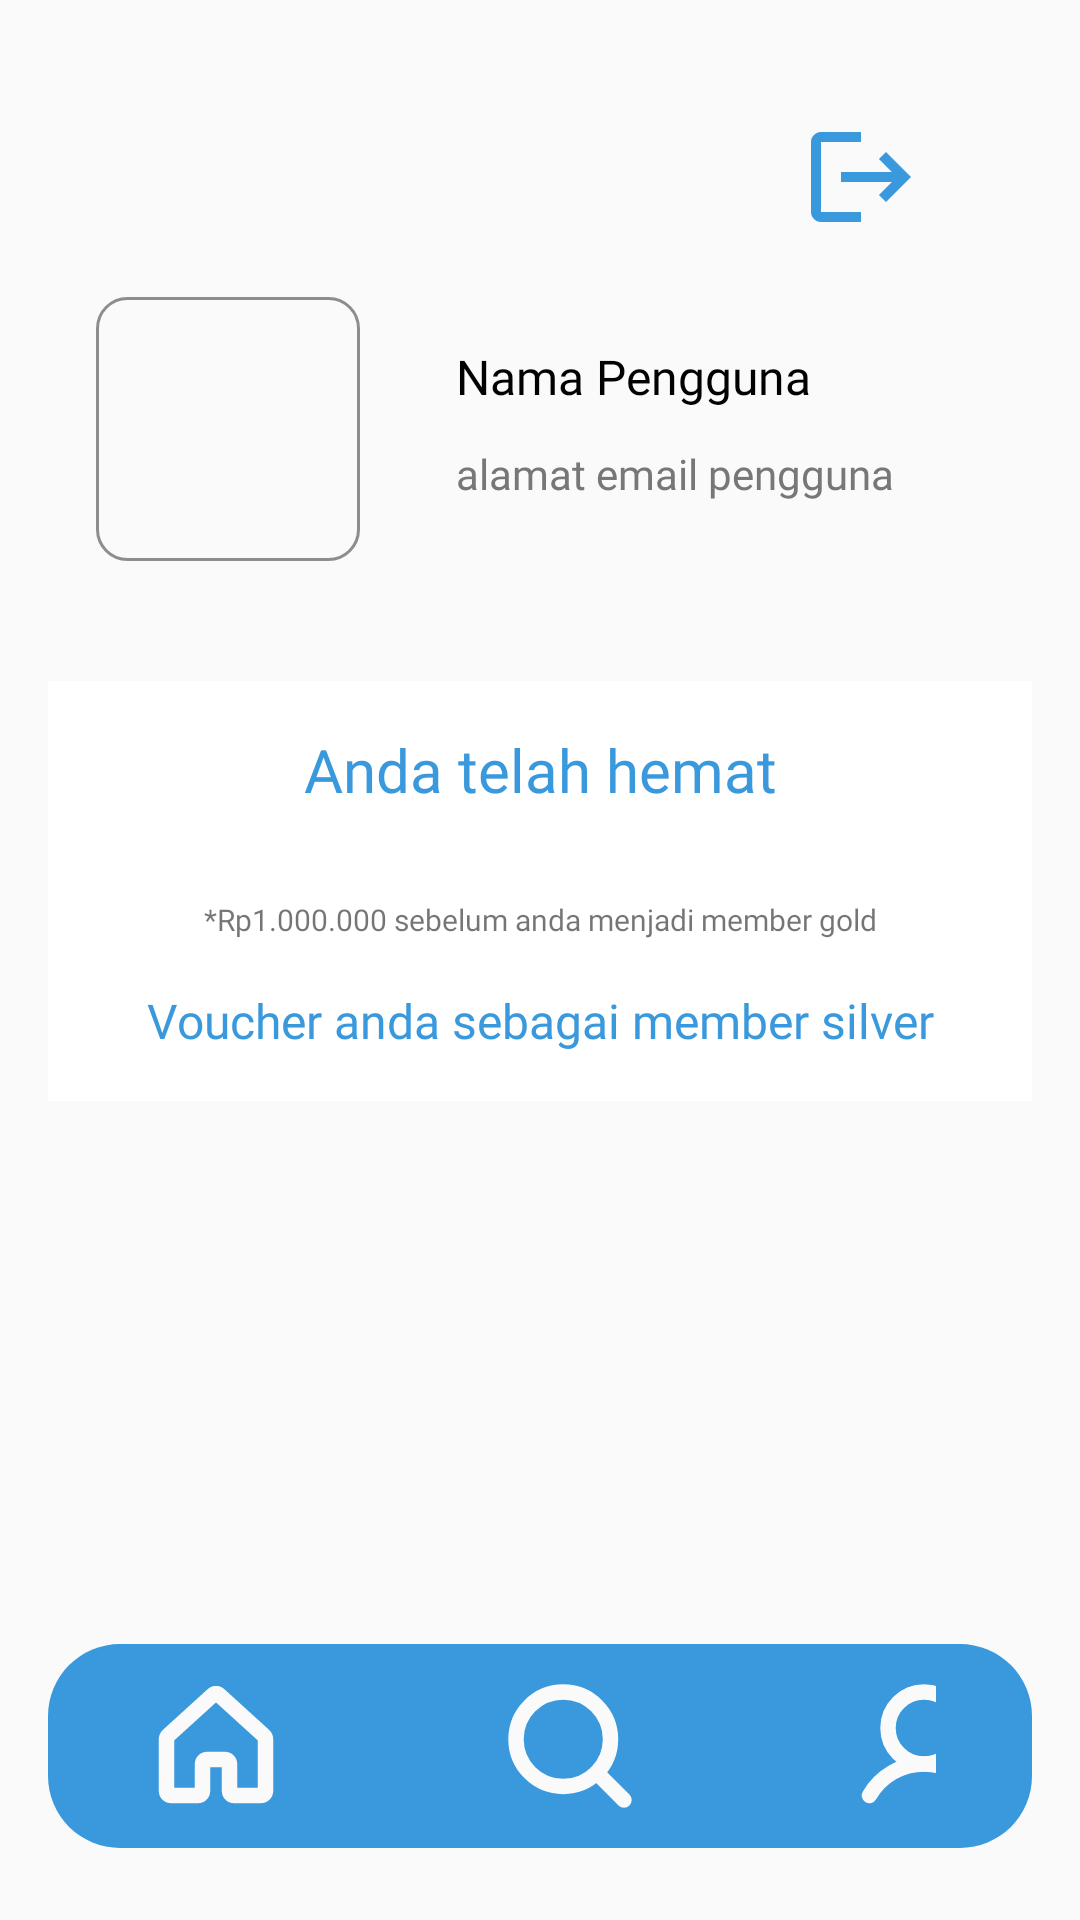

Icons on this 1080 x 1920 Android screen, each with the point to tap as (x=x, y=y):
house: (x=216, y=1745)
jelajah: (x=570, y=1746)
